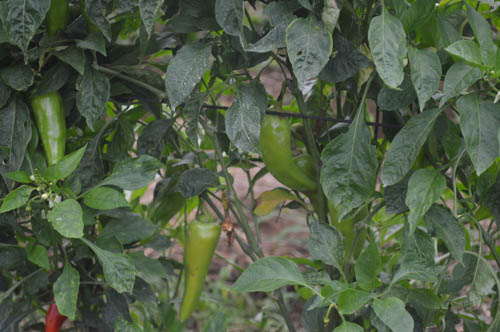ChiliPepper: (265, 117, 318, 196), (179, 221, 216, 322), (29, 94, 69, 168)
